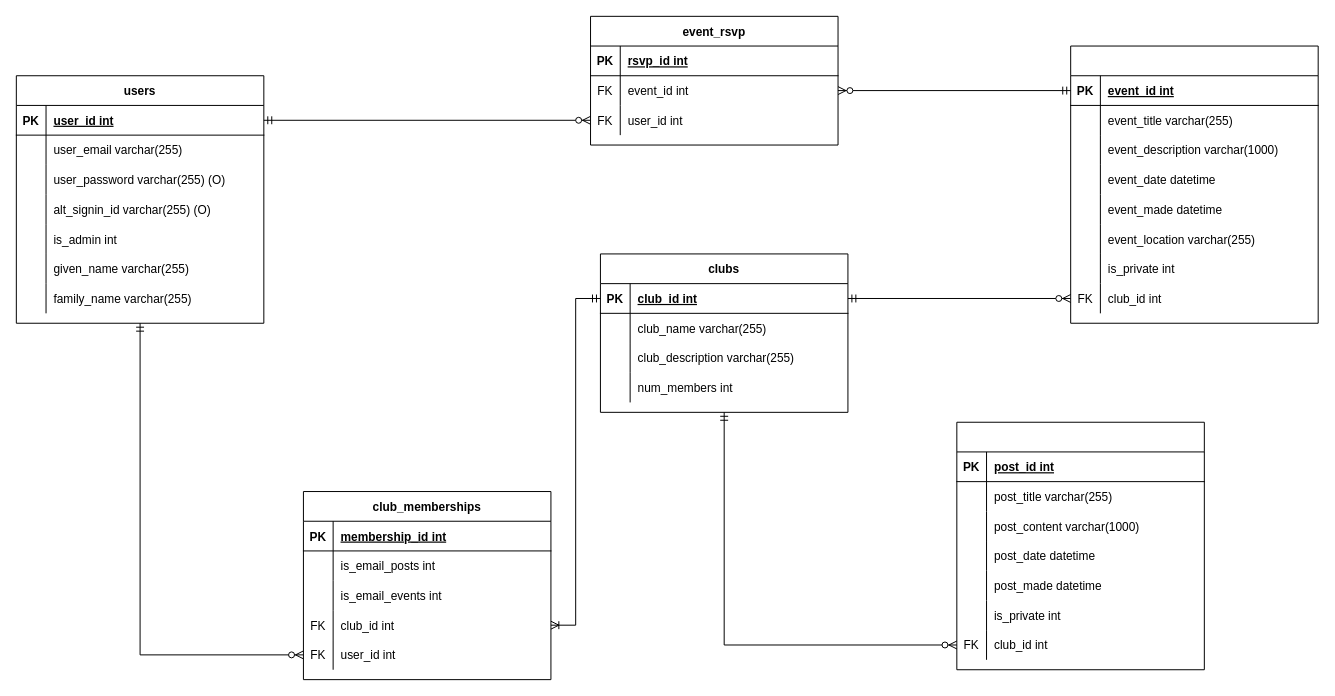
Image size: 1335x696. Some labels were removed from this diagram. Each missing label, with the box of its shape:
club_events: (1070, 45, 1318, 323)
club_posts: (956, 421, 1204, 670)
